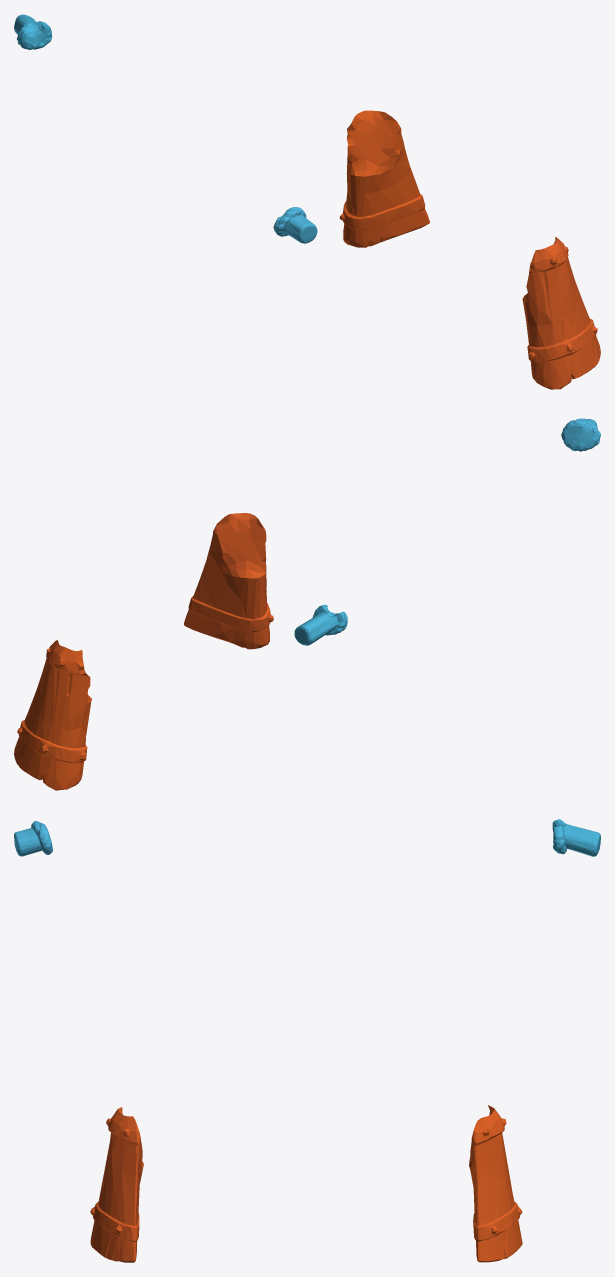
Rendered from sloop_pendants.glb.
3 views of the same model, one above another, from view 1: azimuth 30°, elevation 25°; view 2: azimuth 150°, elevation 25°; view 3: azimuth 270°, elevation 25° (orthographic). The views are drawn at different scales.
Visible parts, largest first — view 1: Pendant_SternPort, Pendant_SternStarboard, Pendant_RailStarboard, Pendant_RailPort; view 2: Pendant_SternStarboard, Pendant_SternPort, Pendant_RailPort, Pendant_RailStarboard; view 3: Pendant_SternPort, Pendant_SternStarboard, Pendant_RailPort, Pendant_RailStarboard.
Part boxes in pixels (x1,y1,x2,y2): Pendant_SternPort: [339, 110, 429, 247]; Pendant_SternStarboard: [522, 237, 600, 389]; Pendant_RailStarboard: [273, 207, 317, 243]; Pendant_RailPort: [14, 14, 52, 49]; Pendant_SternStarboard: [184, 513, 273, 649]; Pendant_SternPort: [14, 640, 92, 790]; Pendant_RailPort: [294, 604, 347, 645]; Pendant_RailStarboard: [561, 418, 600, 451]; Pendant_SternPort: [469, 1105, 522, 1262]; Pendant_SternStarboard: [90, 1107, 143, 1262]; Pendant_RailPort: [552, 819, 600, 856]; Pendant_RailStarboard: [14, 821, 52, 856].
Bounding box in the file's own units: 0.7152 × 0.4995 × 0.9594.
